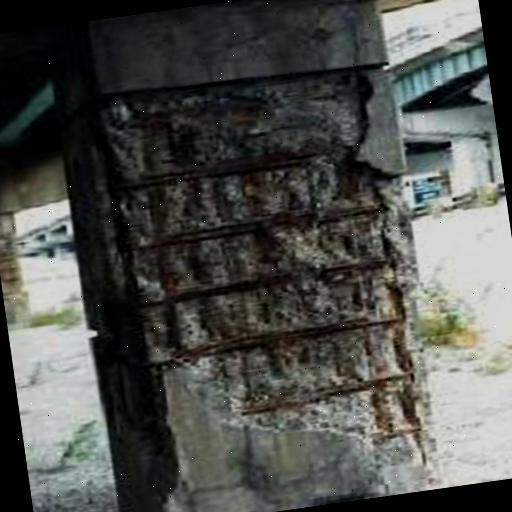spalling: (70, 60, 445, 502)
